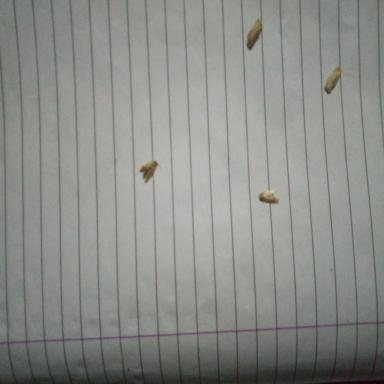pbw: (246, 18, 262, 50), (324, 64, 341, 94), (138, 160, 161, 182)
